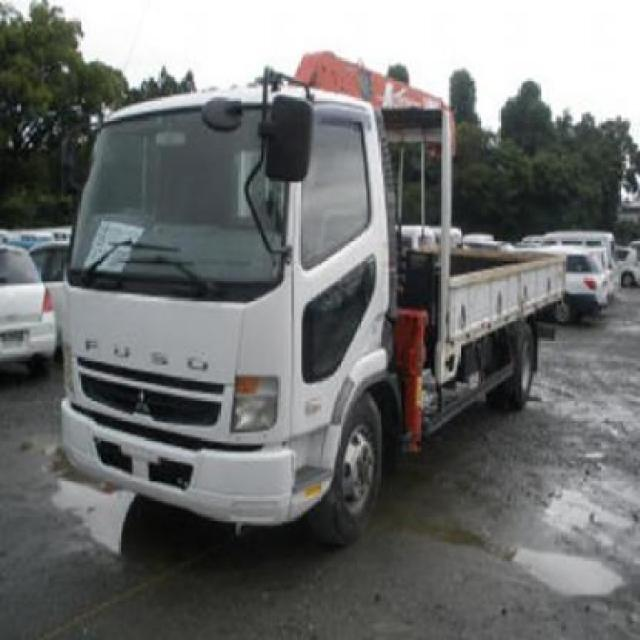truck: (58, 55, 564, 547)
